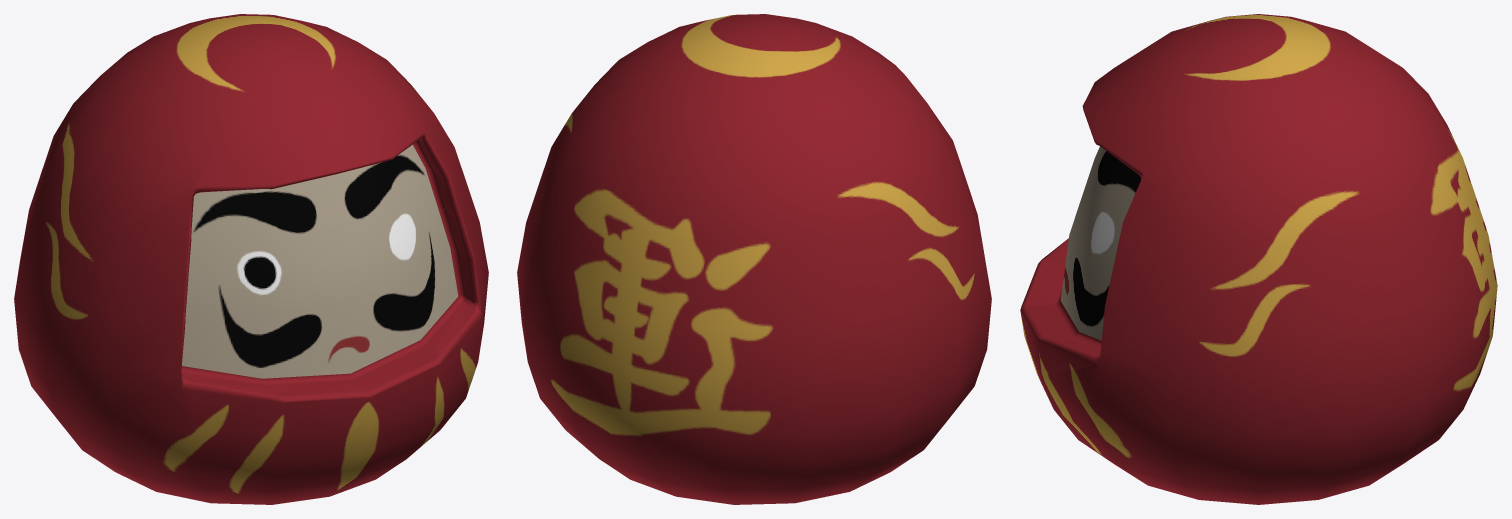
Rendered from DARUMA.fbx.
3 views of the same model, side by side, from view 1: azimuth 30°, elevation 25°; view 2: azimuth 150°, elevation 25°; view 3: azimuth 270°, elevation 25° (orthographic).
Parts seen in each view (by area): view 1: DARUMA; view 2: DARUMA; view 3: DARUMA.
Boxes of the visible parts, x1,y1,x2,y2 form: DARUMA: (14, 14, 488, 504); DARUMA: (517, 14, 991, 504); DARUMA: (1020, 14, 1497, 504).
Bounding box in the file's own units: 20.14 × 18.8 × 20.11.
